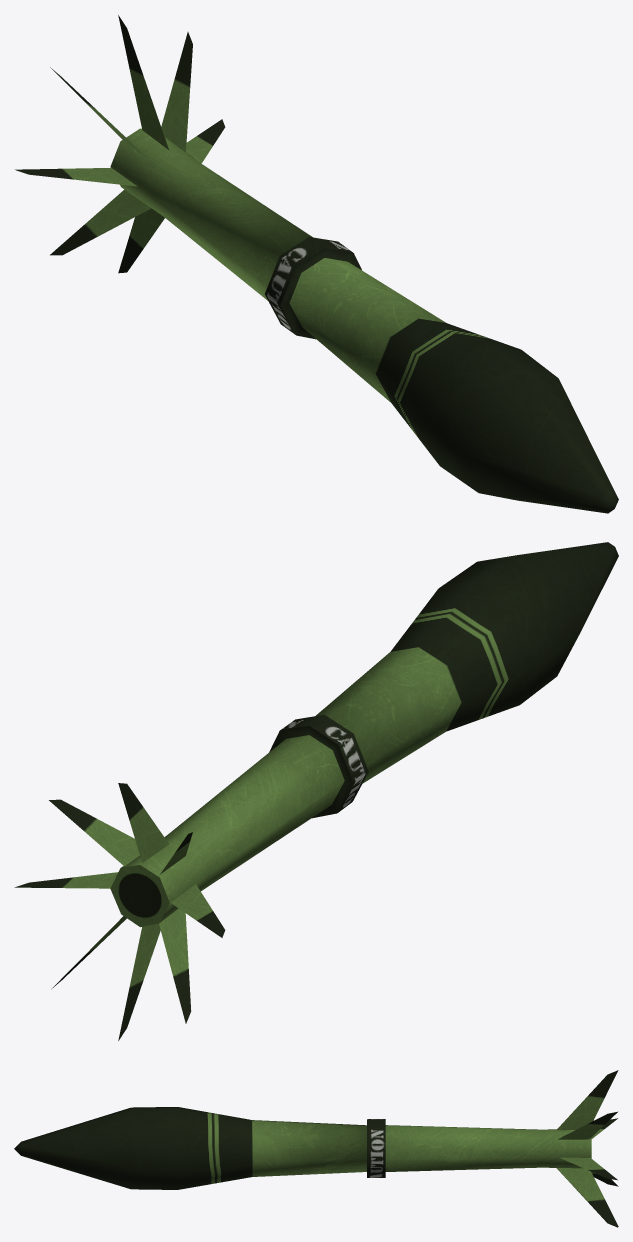
The model's file is rocket.obj.
The picture shows the model from 3 angles, top to bottom: view 1: azimuth 30°, elevation 25°; view 2: azimuth 150°, elevation 25°; view 3: azimuth 270°, elevation 25°; orthographic projection. The views are drawn at different scales.
Visible parts, largest first — view 1: polySurface12; view 2: polySurface12; view 3: polySurface12.
Part boxes in pixels (x1=…): polySurface12: x1=15, y1=15, x2=618, y2=513; polySurface12: x1=14, y1=542, x2=618, y2=1040; polySurface12: x1=14, y1=1070, x2=618, y2=1227.
Size of the model in its own units: 5.4 by 6.42 by 22.3.
Materials: 1 (1 with a texture image).
